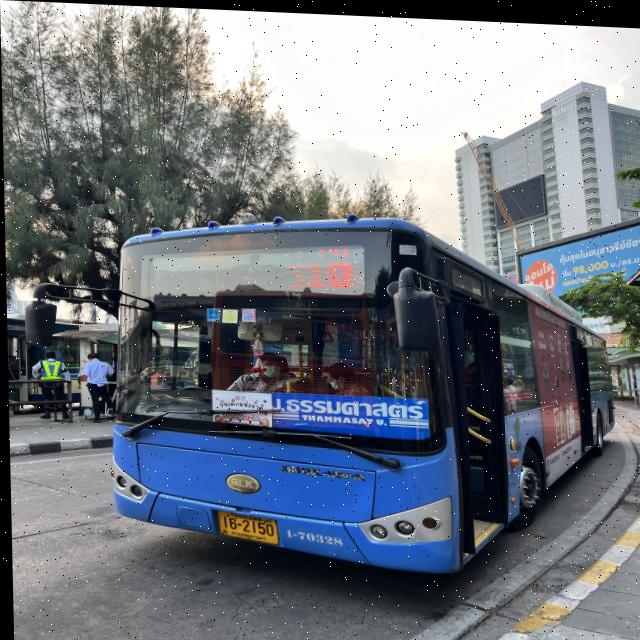BMTA-bus: (109, 214, 613, 574)
Bus Line Number: (277, 241, 363, 292)
Bus Side Number: (276, 519, 354, 550)
Destination Sign: (264, 386, 431, 437)
